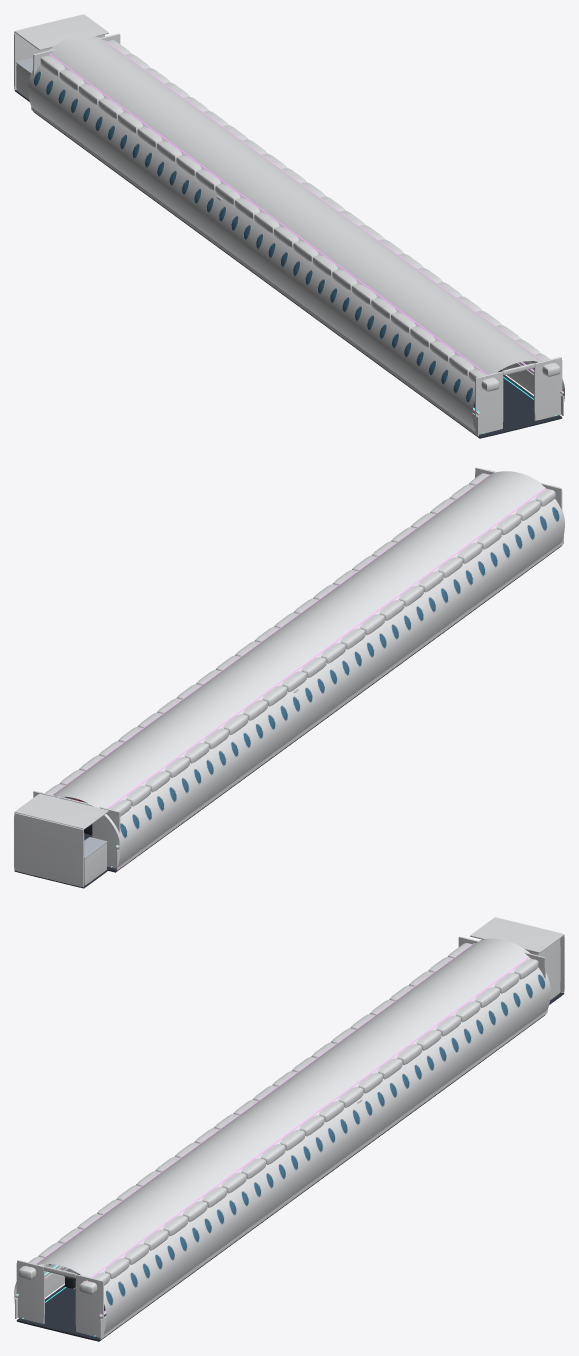
File: qantaslink-a220-300-137.glb
3 renders of one model, top to bottom at view 1: azimuth 30°, elevation 25°; view 2: azimuth 150°, elevation 25°; view 3: azimuth 330°, elevation 25°, orthographic.
Visible parts, largest first — view 1: Carpet floor, Lower sidewall -1, Forward galley headliner, Bulkhead right, Bulkhead left, Cabin wall bay -1 1, Cabin wall bay -1 33, Cabin wall bay -1 3, Cabin wall bay -1 31, Cabin wall bay -1 4, Cabin wall bay -1 17, Cabin wall bay -1 6 (+32 smaller); view 2: Forward galley end panel, Lower sidewall -1, Forward galley headliner, Cabin wall bay -1 1, Cabin wall bay -1 33, Cabin wall bay -1 3, Cabin wall bay -1 31, Cabin wall bay -1 34, Cabin wall bay -1 20, Cabin wall bay -1 22, Cabin wall bay -1 4, Cabin wall bay -1 17 (+32 smaller); view 3: Carpet floor, Lower sidewall 1, Forward galley headliner, Bulkhead left, Bulkhead right, Cabin wall bay 1 1, Cabin wall bay 1 33, Cabin wall bay 1 3, Cabin wall bay 1 31, Cabin wall bay 1 4, Cabin wall bay 1 6, Cabin wall bay 1 17 (+32 smaller).
Part boxes in pixels (<box>): Carpet floor: <box>33,111,562,438</box>; Lower sidewall -1: <box>31,107,478,436</box>; Forward galley headliner: <box>14,14,108,50</box>; Bulkhead right: <box>534,357,562,420</box>; Bulkhead left: <box>475,371,503,434</box>; Cabin wall bay -1 1: <box>40,46,98,124</box>; Cabin wall bay -1 33: <box>435,335,493,413</box>; Cabin wall bay -1 3: <box>65,64,123,142</box>; Cabin wall bay -1 31: <box>411,317,468,394</box>; Cabin wall bay -1 4: <box>77,73,135,151</box>; Cabin wall bay -1 17: <box>238,191,296,268</box>; Cabin wall bay -1 6: <box>102,91,160,169</box>; Forward galley end panel: <box>14,812,84,887</box>; Lower sidewall -1: <box>116,535,563,870</box>; Forward galley headliner: <box>14,793,108,829</box>; Cabin wall bay -1 1: <box>87,780,145,857</box>; Cabin wall bay -1 33: <box>482,491,540,568</box>; Cabin wall bay -1 3: <box>112,762,169,839</box>; Cabin wall bay -1 31: <box>457,509,515,586</box>; Cabin wall bay -1 34: <box>494,482,552,559</box>; Cabin wall bay -1 20: <box>322,608,379,685</box>; Cabin wall bay -1 22: <box>346,590,404,667</box>; Cabin wall bay -1 4: <box>124,753,182,830</box>; Cabin wall bay -1 17: <box>284,635,342,713</box>; Carpet floor: <box>16,1014,545,1341</box>; Lower sidewall 1: <box>100,1010,547,1339</box>; Forward galley headliner: <box>470,917,564,953</box>; Bulkhead left: <box>16,1260,44,1323</box>; Bulkhead right: <box>75,1274,103,1337</box>; Cabin wall bay 1 1: <box>480,949,538,1027</box>; Cabin wall bay 1 33: <box>85,1238,143,1316</box>; Cabin wall bay 1 3: <box>455,967,513,1045</box>; Cabin wall bay 1 31: <box>110,1220,167,1297</box>; Cabin wall bay 1 4: <box>443,976,501,1054</box>; Cabin wall bay 1 6: <box>418,994,476,1072</box>; Cabin wall bay 1 17: <box>282,1094,340,1171</box>.
Bounding box in the file's own units: 3.28 × 2.21 × 29.27.
